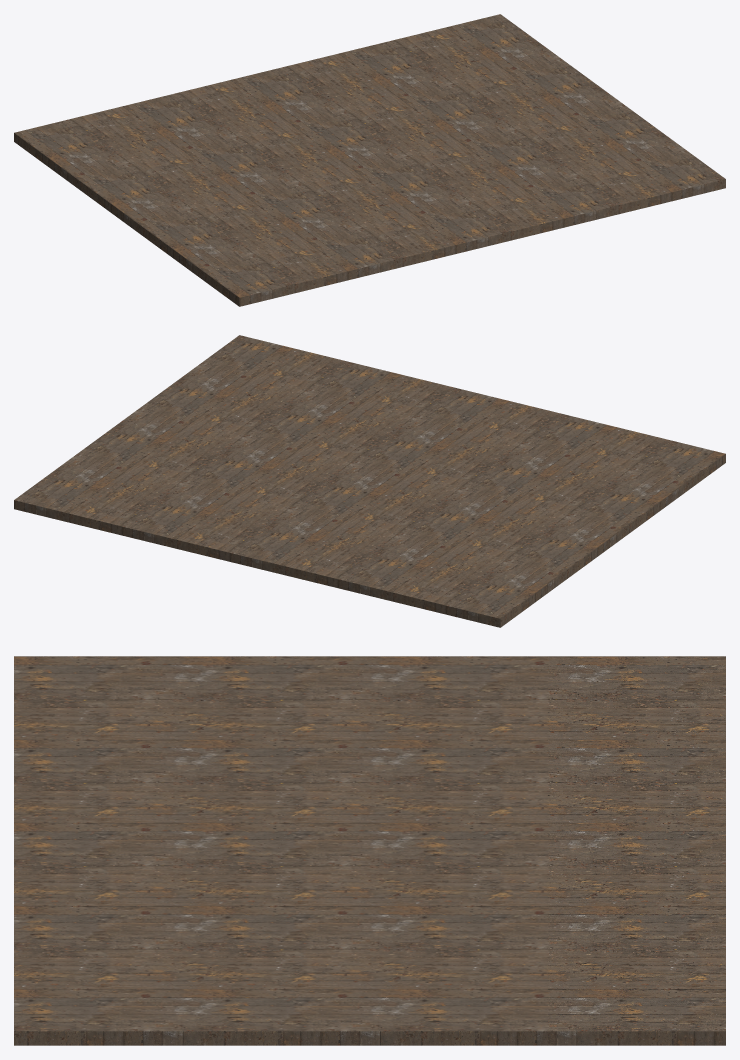
Rendered from UD_Room1.fbx.
3 renders of one model, top to bottom at view 1: azimuth 30°, elevation 25°; view 2: azimuth 150°, elevation 25°; view 3: azimuth 270°, elevation 25°, orthographic. The views are drawn at different scales.
Parts seen in each view (by area): view 1: SM_MERGED_StaticMeshActor_717_LOD0; view 2: SM_MERGED_StaticMeshActor_717_LOD0; view 3: SM_MERGED_StaticMeshActor_717_LOD0.
Part boxes in pixels (x1,y1,x2,y2): SM_MERGED_StaticMeshActor_717_LOD0: (14,14,725,306); SM_MERGED_StaticMeshActor_717_LOD0: (14,335,725,627); SM_MERGED_StaticMeshActor_717_LOD0: (14,656,725,1045).
Size of the model in its own units: 1126 by 20 by 904.
